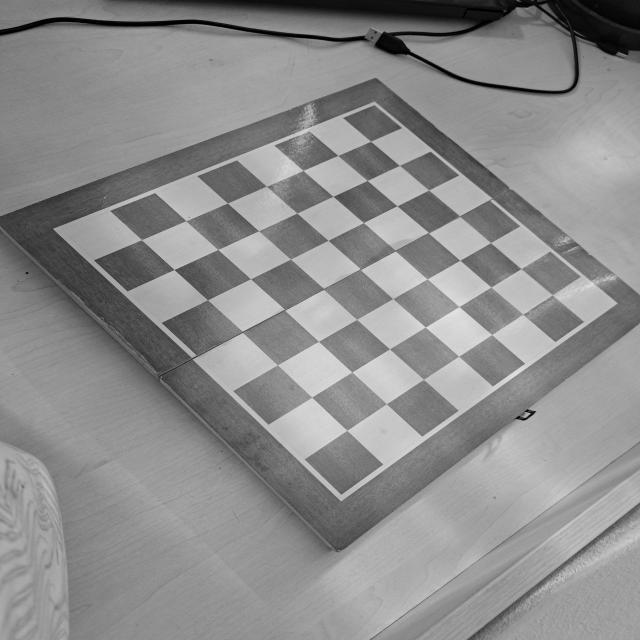chess-table-corners: (328, 486, 354, 502), (50, 222, 74, 239), (364, 100, 384, 114), (602, 296, 622, 310)
